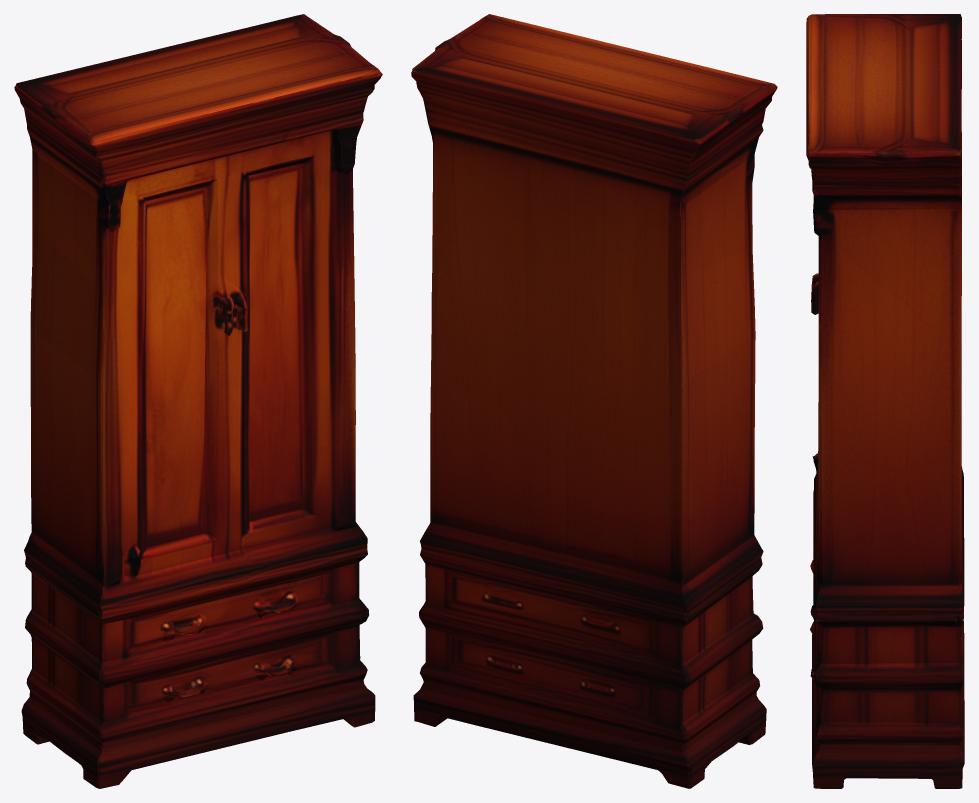
File: wardrobe-hy3d.glb
3 views of the same model, side by side, from view 1: azimuth 30°, elevation 25°; view 2: azimuth 150°, elevation 25°; view 3: azimuth 270°, elevation 25° (orthographic). The views are drawn at different scales.
Visible parts, largest first — view 1: temp_mesh.ply; view 2: temp_mesh.ply; view 3: temp_mesh.ply.
Boxes of the visible parts, bbox=[...] form: temp_mesh.ply: bbox=[14, 14, 382, 788]; temp_mesh.ply: bbox=[411, 14, 777, 788]; temp_mesh.ply: bbox=[806, 14, 964, 788].
Bounding box in the file's own units: 0.9494 × 2 × 0.4466.
Materials: 1 (1 with a texture image).
